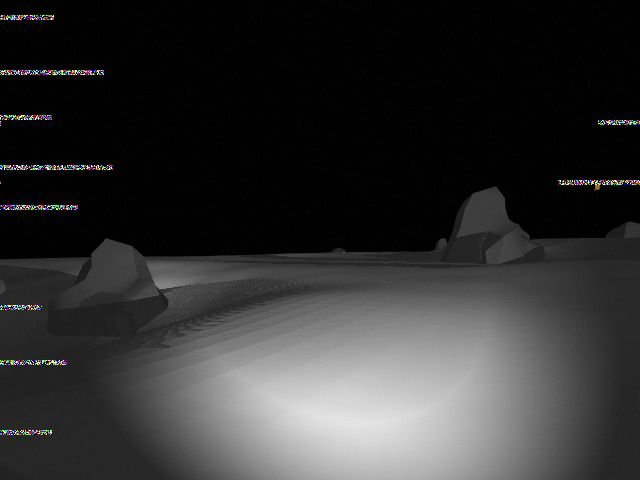cubesat: (588, 178, 604, 193)
